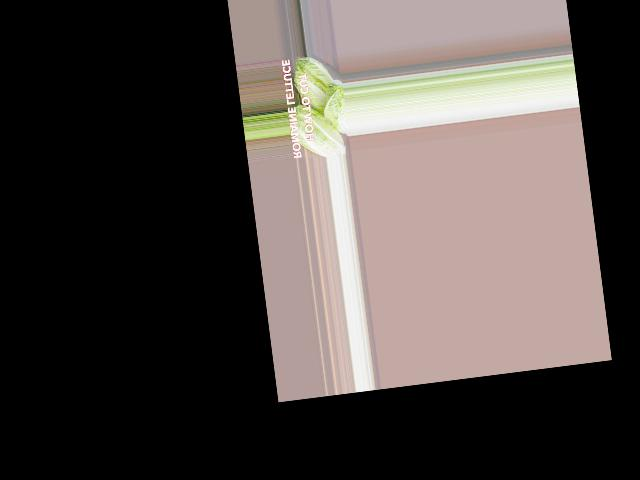lettuce: (286, 51, 341, 121)
